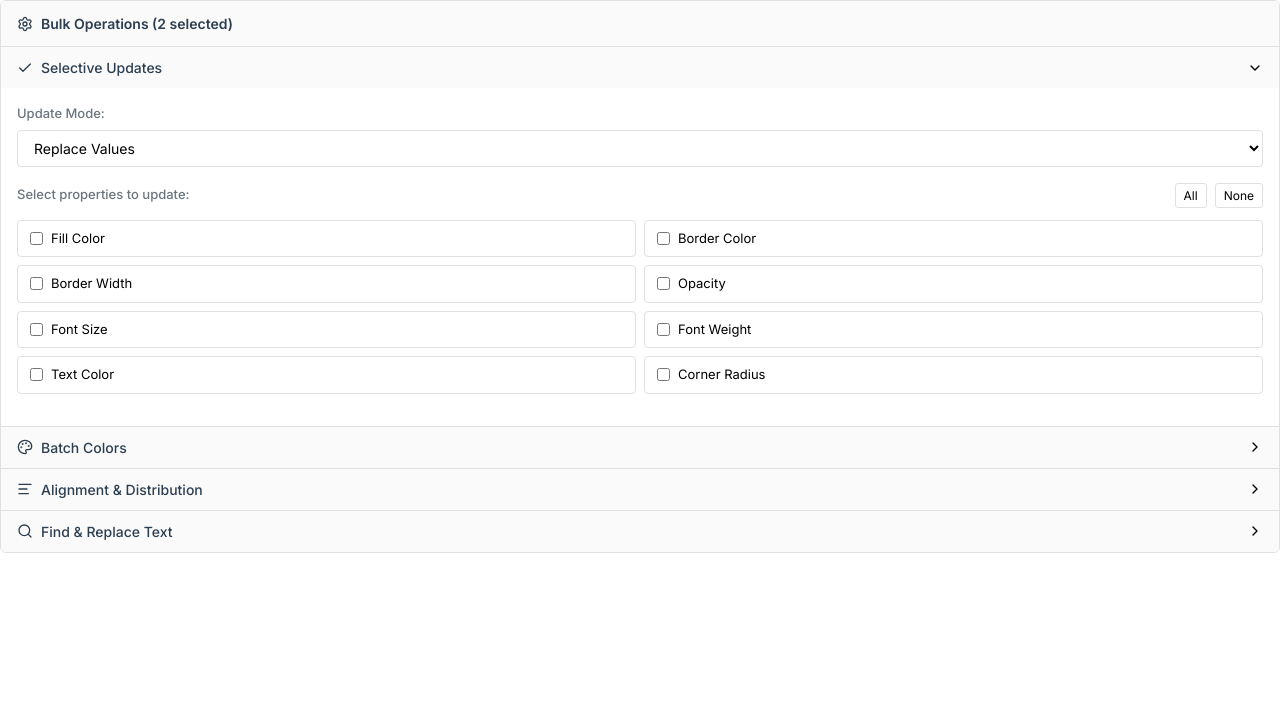
Test: BulkStyleControls › Distribution Operations › should disable distribution buttons for insufficient elements
Click the button "Alignment & Distribution".
click(122, 489)  # box [1,468,1279,510]
(page scrolled)
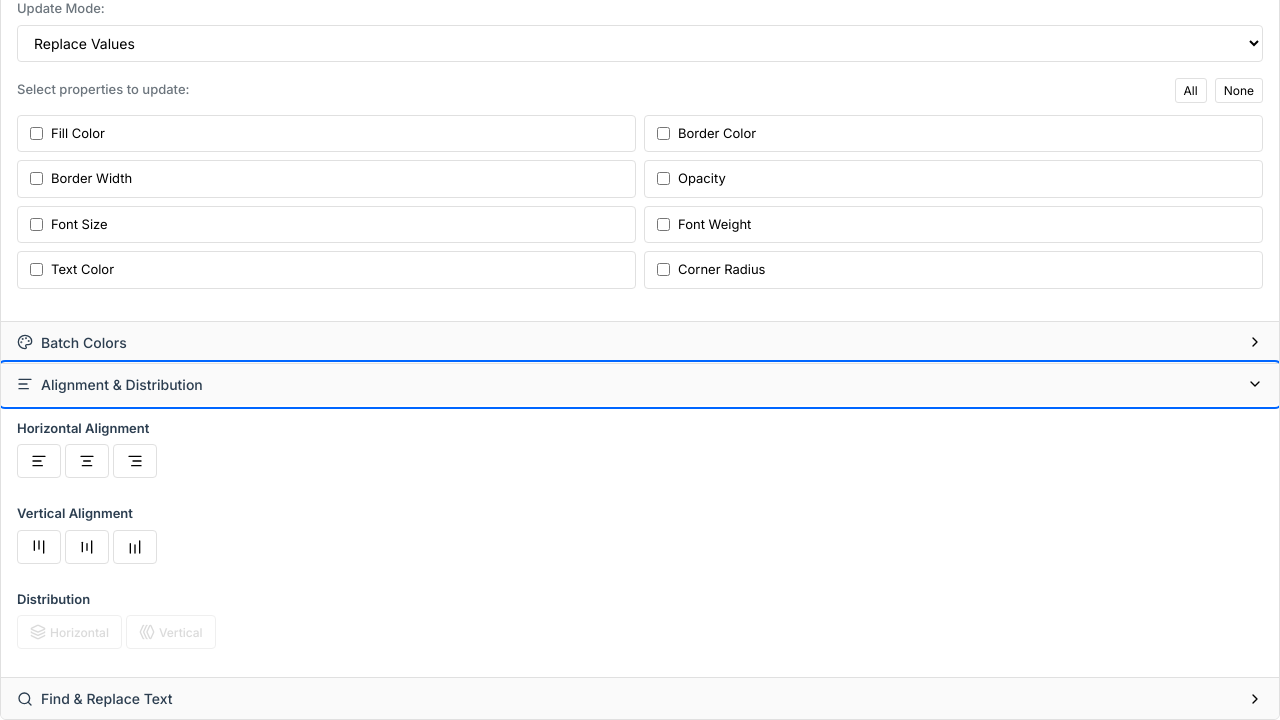
Expected: the button titled "Distribute Horizontally" is disabled, [17,615,122,649]
